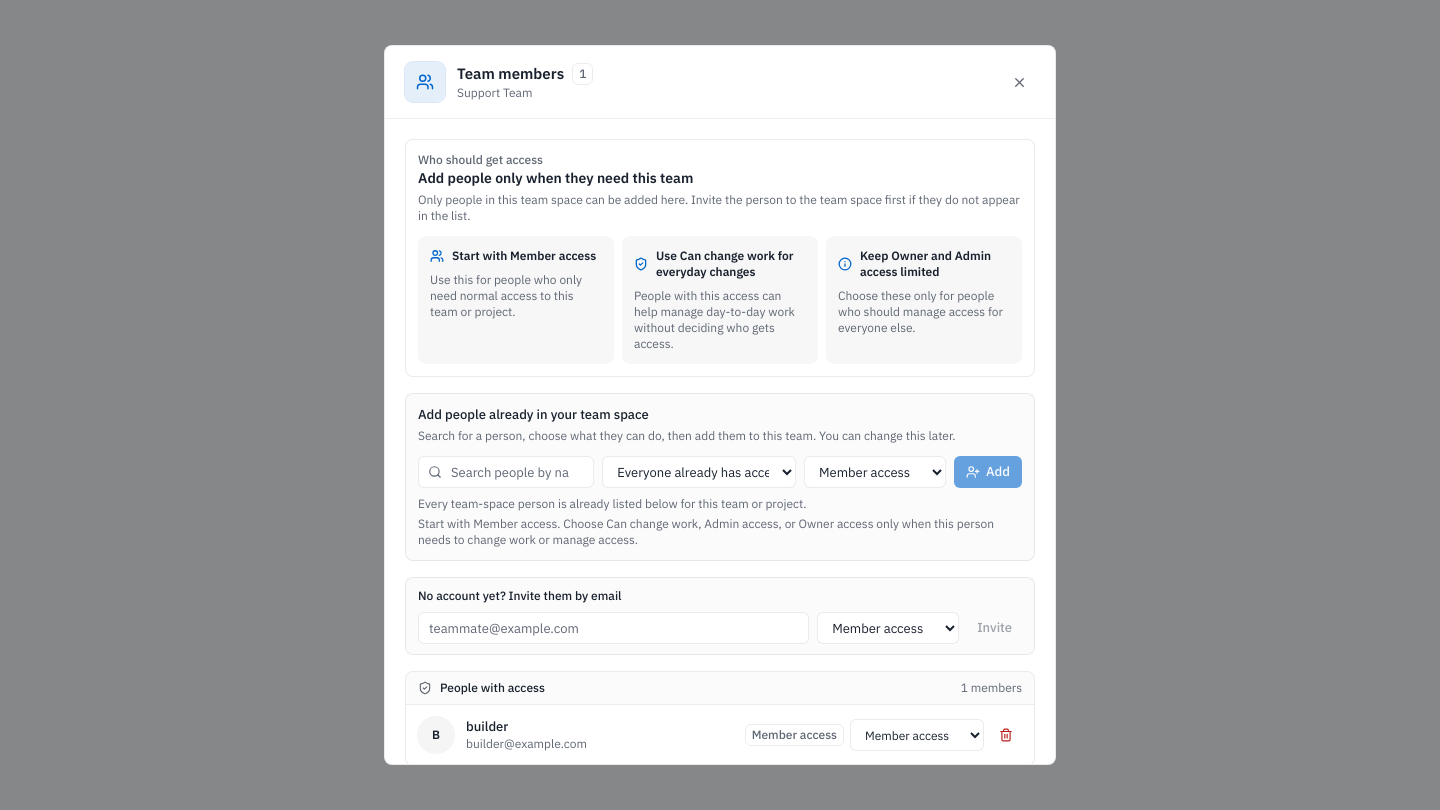
Test: ResourceMembersModal › shows recovery guidance when the selected team changes before changing access
expect the text "builder" is shown: met, box x1=466 y1=718 x2=508 y2=735
Select "Admin access" in the dropdown named "Access level for builder" at (917, 735), box x1=850 y1=719 x2=984 y2=751
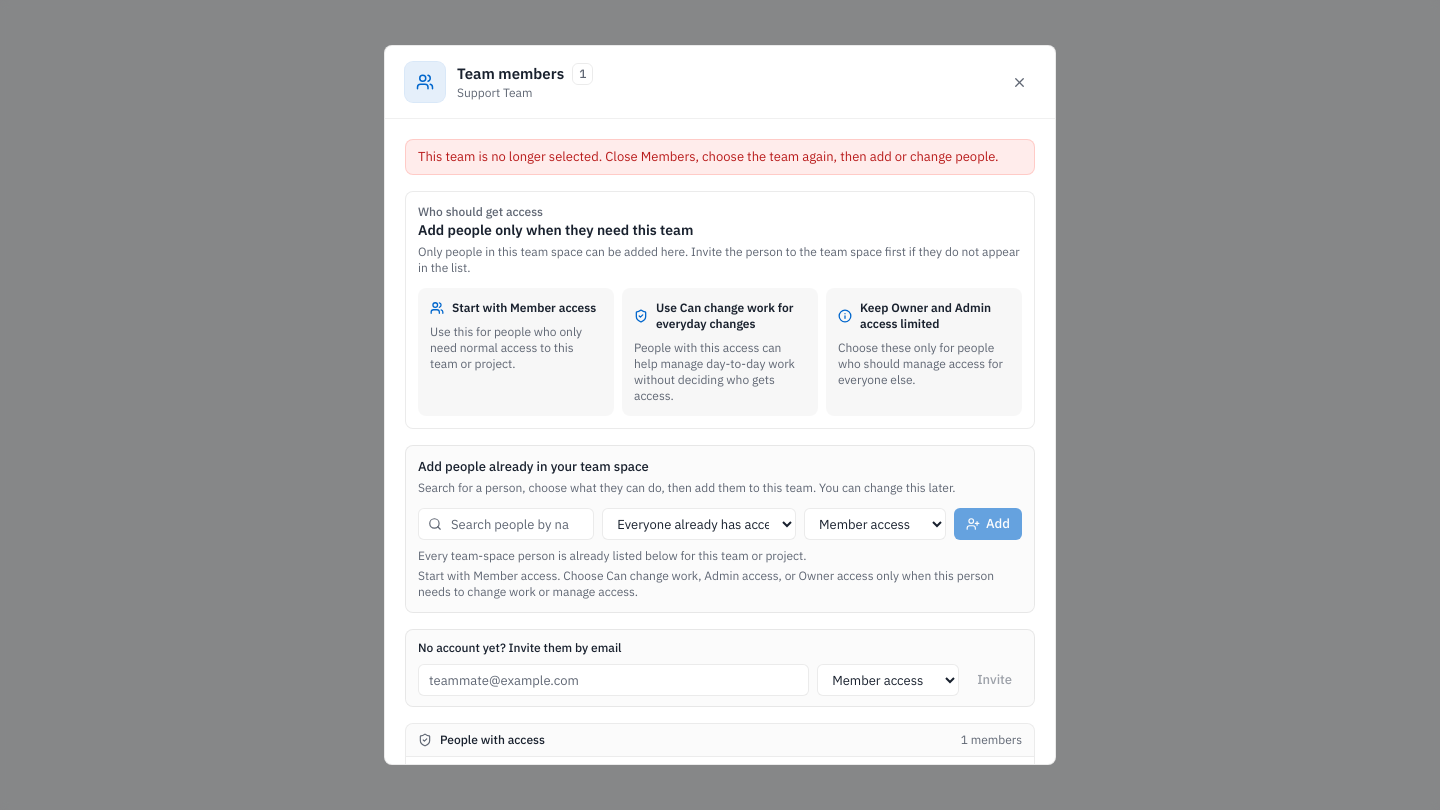
expect the 1st message shows "This team is no longer selected": met, box x1=418 y1=148 x2=999 y2=165
expect the 1st message shows "choose the team again": met, box x1=418 y1=148 x2=999 y2=165
